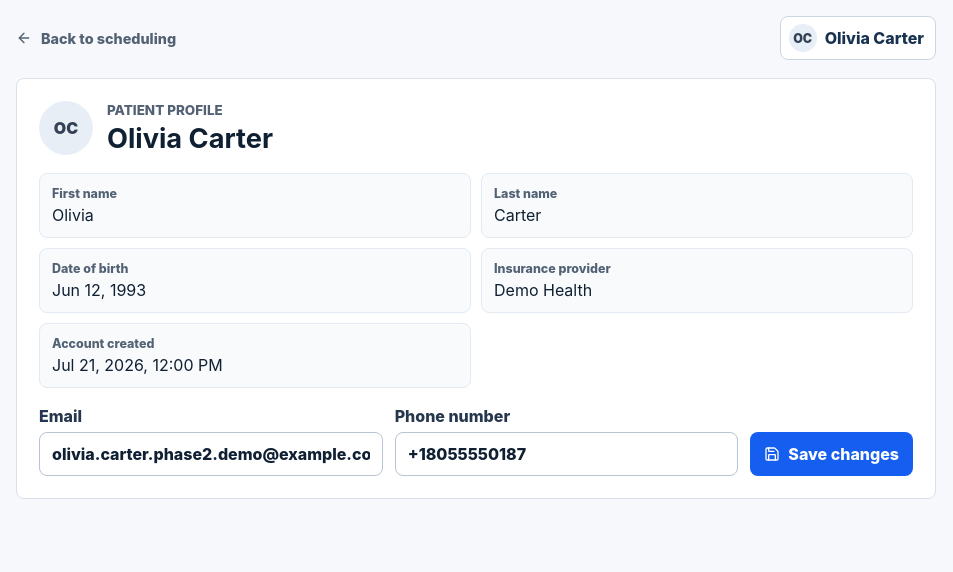
updates only email and phone and shows the saved values
Replace the text in the field labelled "Email" with "olivia.updated@example.test" at (211, 454), box [39,432,383,476]
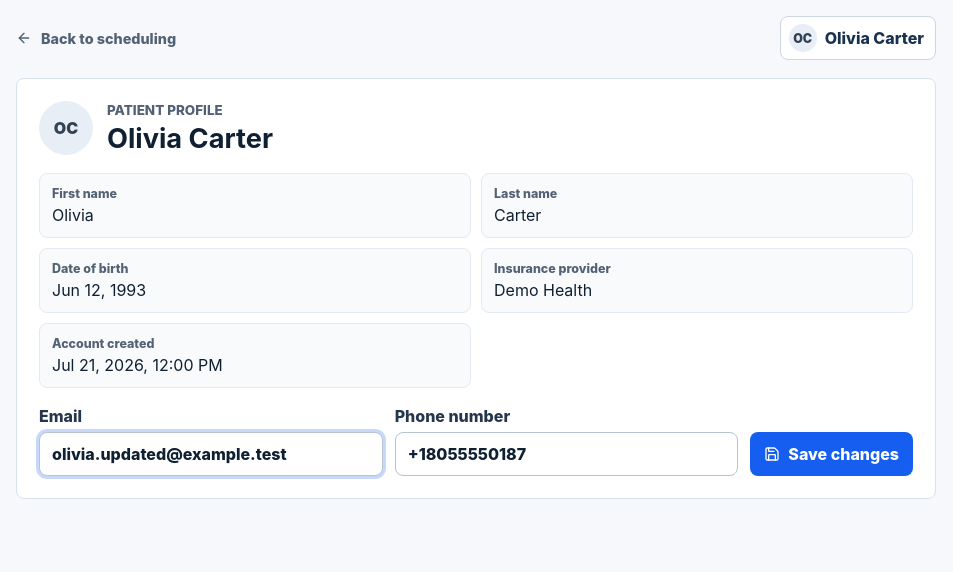
Replace the text in the field labelled "Phone number" with "+18055559002" at (567, 454), box [395,432,738,476]
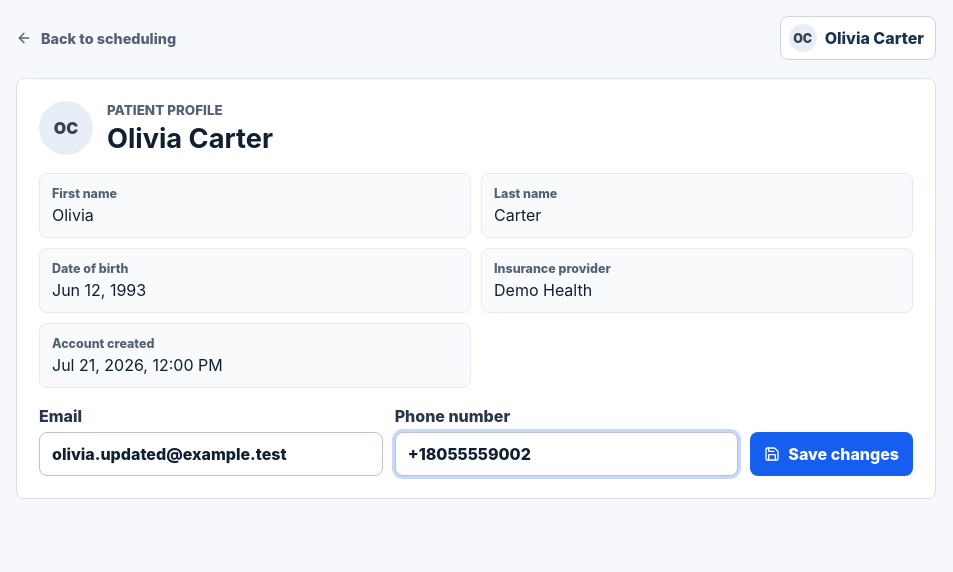
Click the button "Save changes".
click(832, 454)  # box [750,432,913,476]
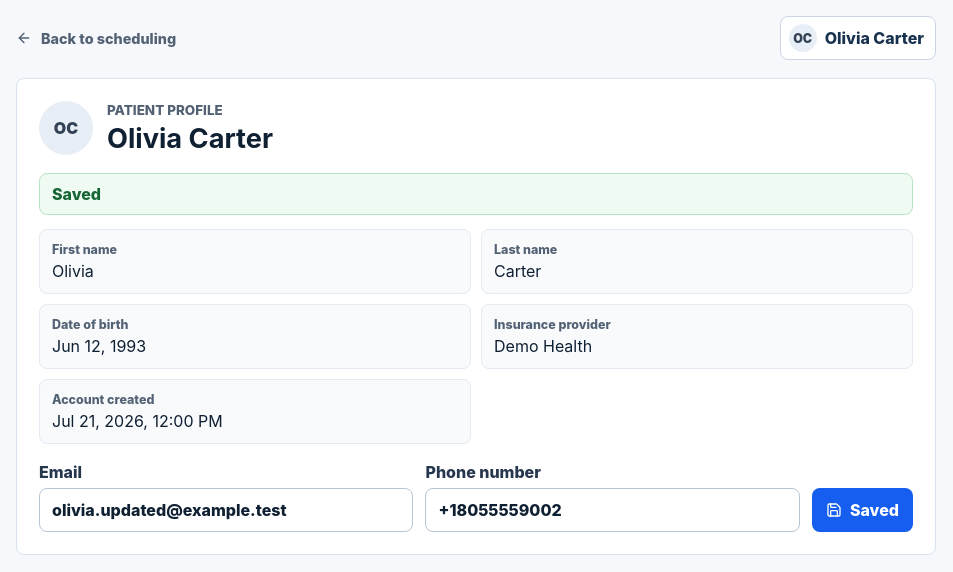
Expected: the message reads "Saved", [52,184,101,204]
